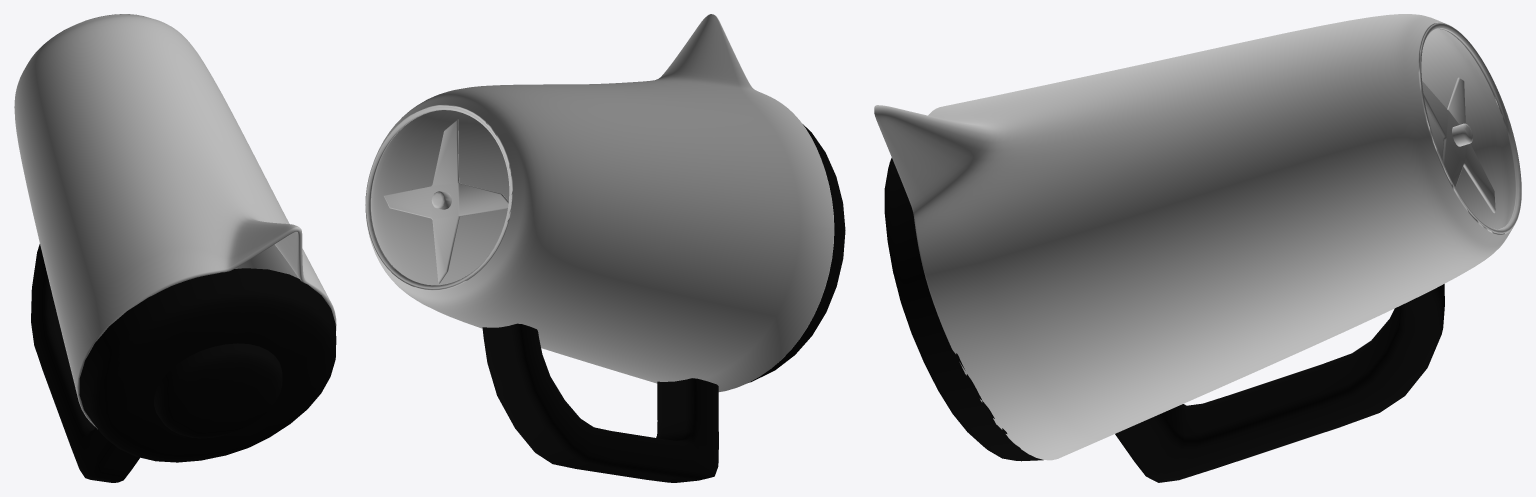
File: blender_tank.obj
The picture shows the model from 3 angles, left to right: view 1: azimuth 30°, elevation 25°; view 2: azimuth 150°, elevation 25°; view 3: azimuth 270°, elevation 25°; orthographic projection. The views are drawn at different scales.
Parts seen in each view (by area): view 1: dynamic; view 2: dynamic; view 3: dynamic.
Part boxes in pixels (bbox=[...]): dynamic: bbox=[14, 14, 336, 482]; dynamic: bbox=[365, 14, 845, 482]; dynamic: bbox=[874, 14, 1521, 482].
Bounding box in the file's own units: 74.52 × 104 × 119.
Materials: 2 (2 with a texture image).
